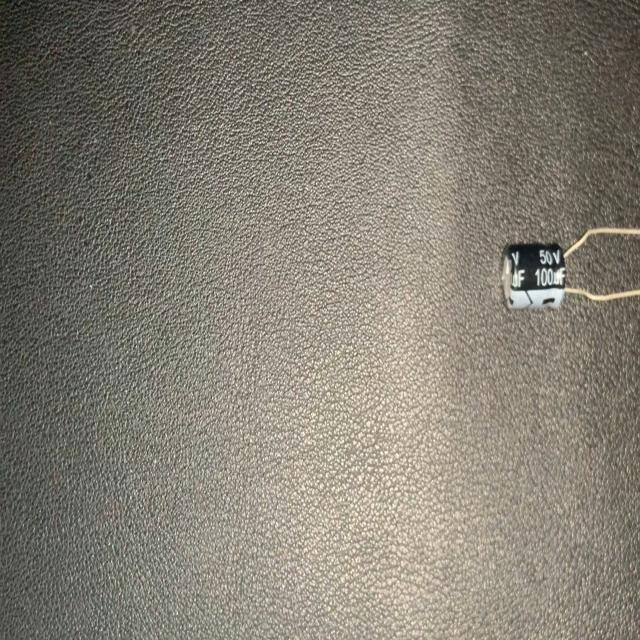capacitor: (500, 225, 640, 312)
